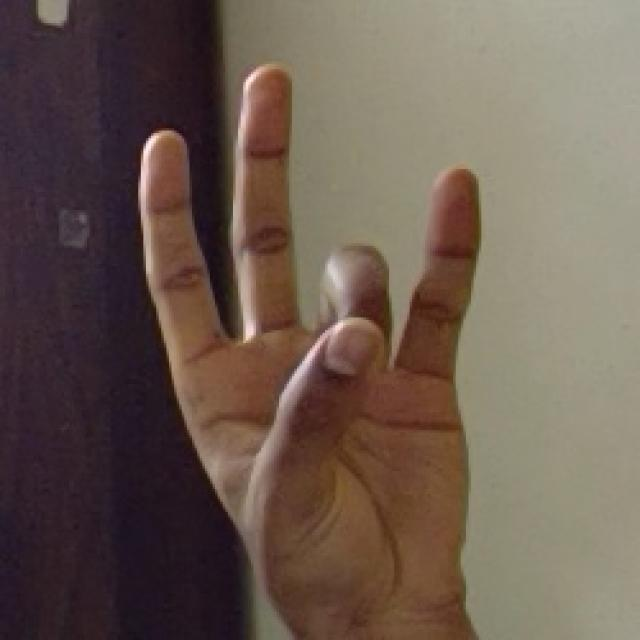Numeric-7: (143, 59, 477, 640)
